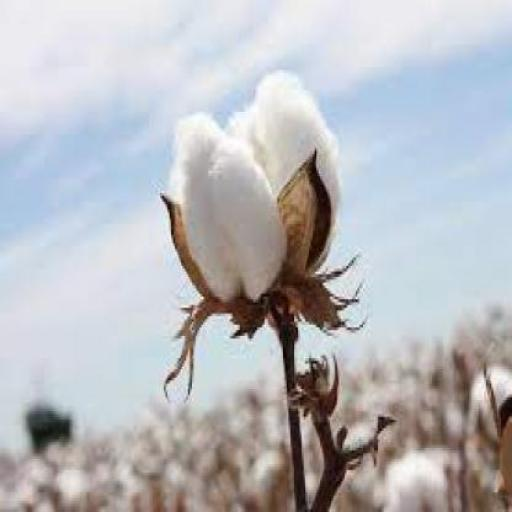cotton_ready: (125, 84, 361, 333)
